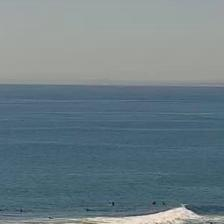surfer: (85, 209, 94, 212), (151, 202, 156, 206), (111, 201, 115, 206), (48, 216, 53, 220), (162, 202, 165, 206), (20, 209, 24, 212), (0, 209, 4, 212), (209, 222, 213, 223)
